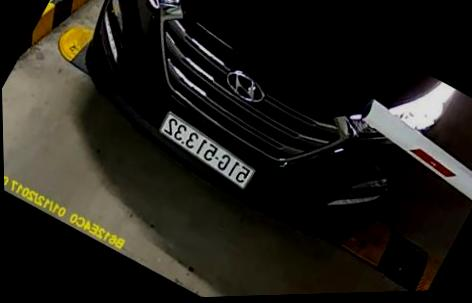License_Plate: (151, 112, 266, 197)
